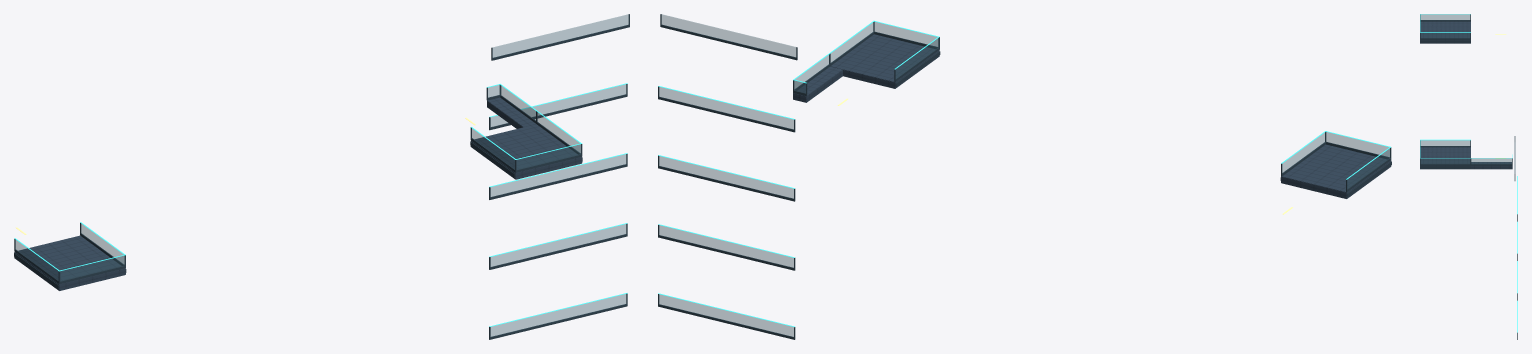
The model's file is v02-detailed-00-07.glb.
3 views of the same model, side by side, from view 1: azimuth 30°, elevation 25°; view 2: azimuth 150°, elevation 25°; view 3: azimuth 270°, elevation 25° (orthographic). The views are drawn at different scales.
Visible parts, largest first — view 1: v02-detailed-00-07; view 2: v02-detailed-00-07; view 3: v02-detailed-00-07.
Part boxes in pixels (x1,y1,x2,y2): v02-detailed-00-07: (14, 14, 629, 339); v02-detailed-00-07: (658, 14, 1391, 339); v02-detailed-00-07: (1420, 14, 1517, 339).
Size of the model in its own units: 58.85 by 25.21 by 13.47.
Materials: 5 (1 with a texture image).
